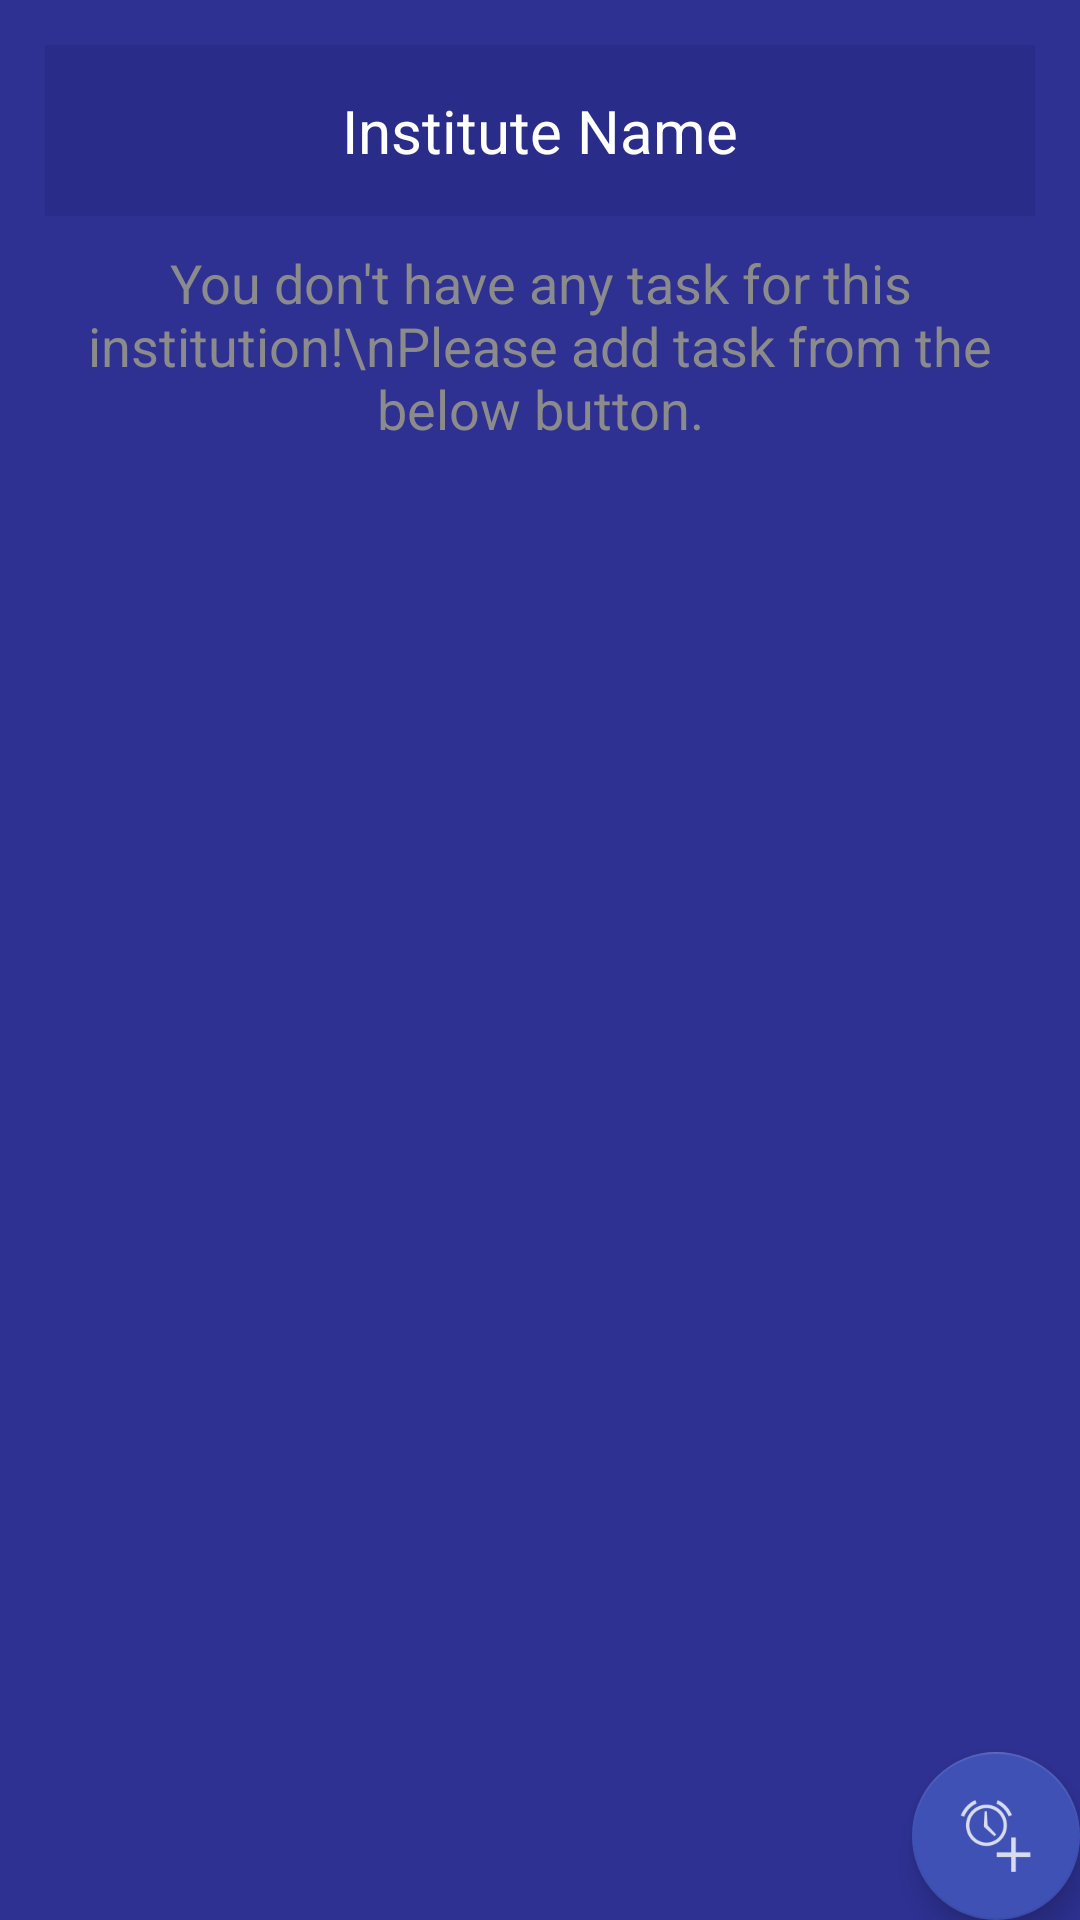

Where to tap for icons on this 1080 × 1920 app screen, as point (x, y):
add time: point (996, 1836)
